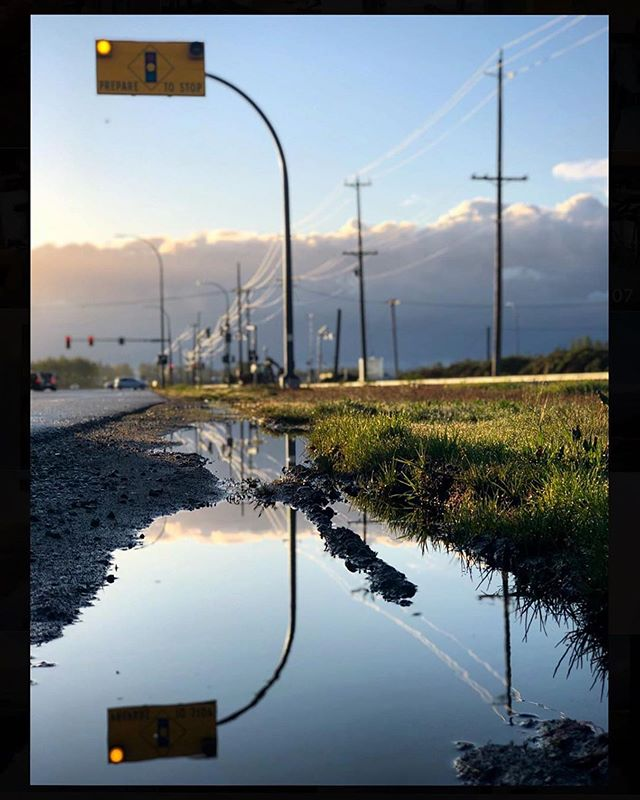grass: (211, 377, 623, 565)
sign: (91, 37, 205, 100)
sky: (43, 1, 640, 353)
